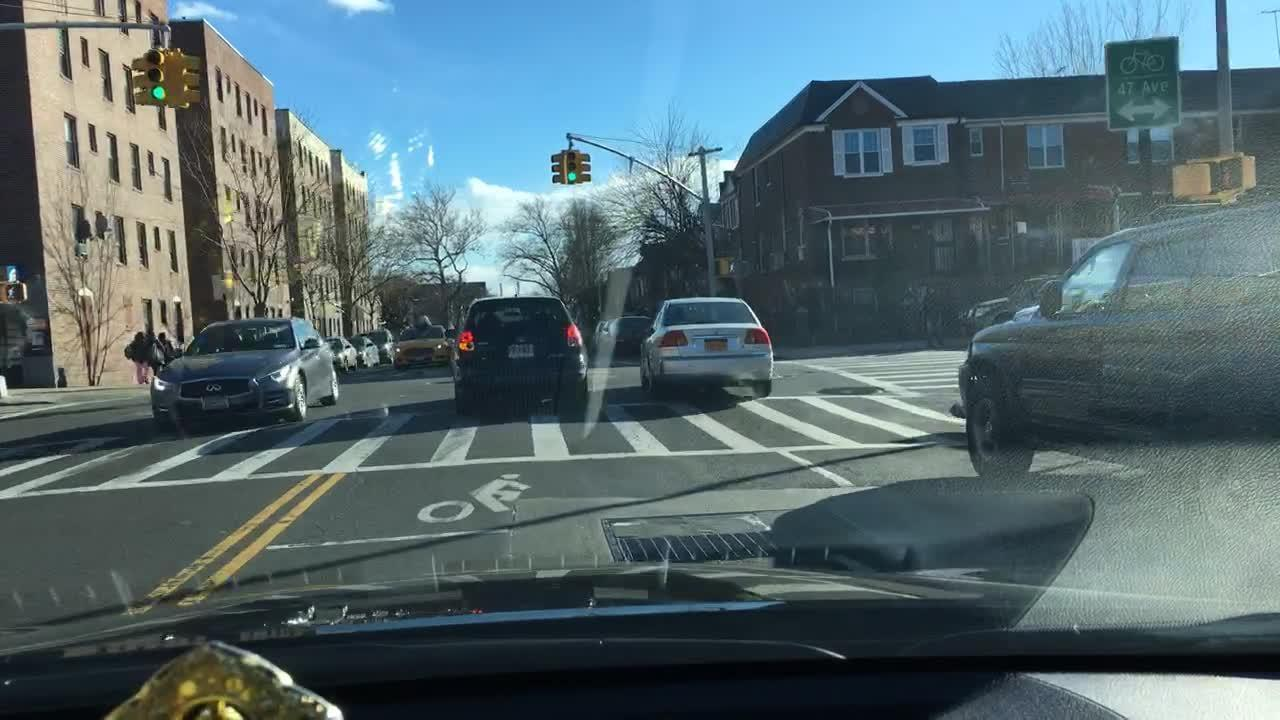Infiniti: (203, 380, 225, 395)
